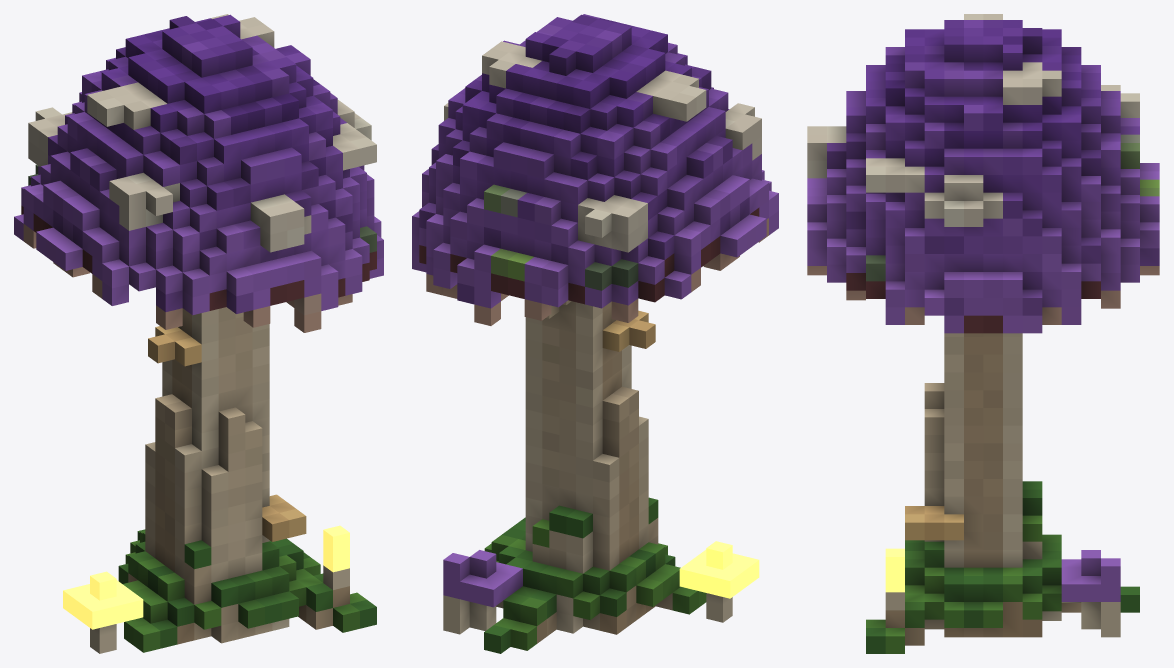
The model's file is tree-mushroom-m.glb.
3 views of the same model, side by side, from view 1: azimuth 30°, elevation 25°; view 2: azimuth 150°, elevation 25°; view 3: azimuth 270°, elevation 25° (orthographic).
Parts seen in each view (by area): view 1: TREE_MUSHROOM_M__cap; view 2: TREE_MUSHROOM_M__cap; view 3: TREE_MUSHROOM_M__cap.
Part boxes in pixels (x1,y1,x2,y2): TREE_MUSHROOM_M__cap: (14, 14, 383, 653); TREE_MUSHROOM_M__cap: (412, 14, 778, 653); TREE_MUSHROOM_M__cap: (807, 14, 1159, 653).
Bounding box in the file's own units: 1.12 × 2 × 1.12.
